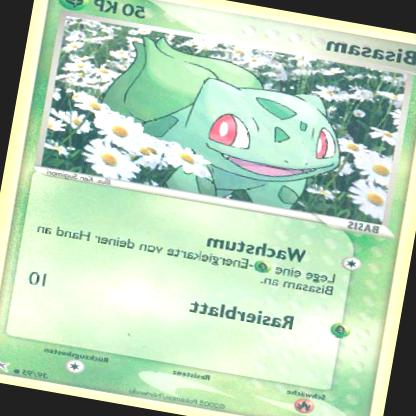Bulbasaur: (90, 27, 361, 216)
